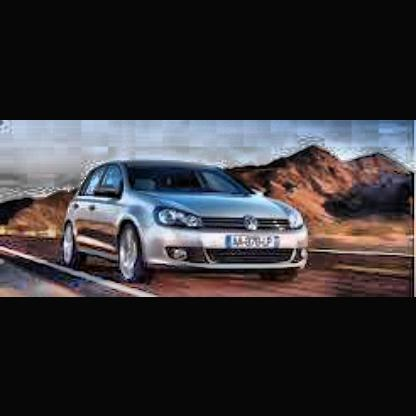Volkswagen Golf Hatchback 2012: (57, 155, 314, 293)
